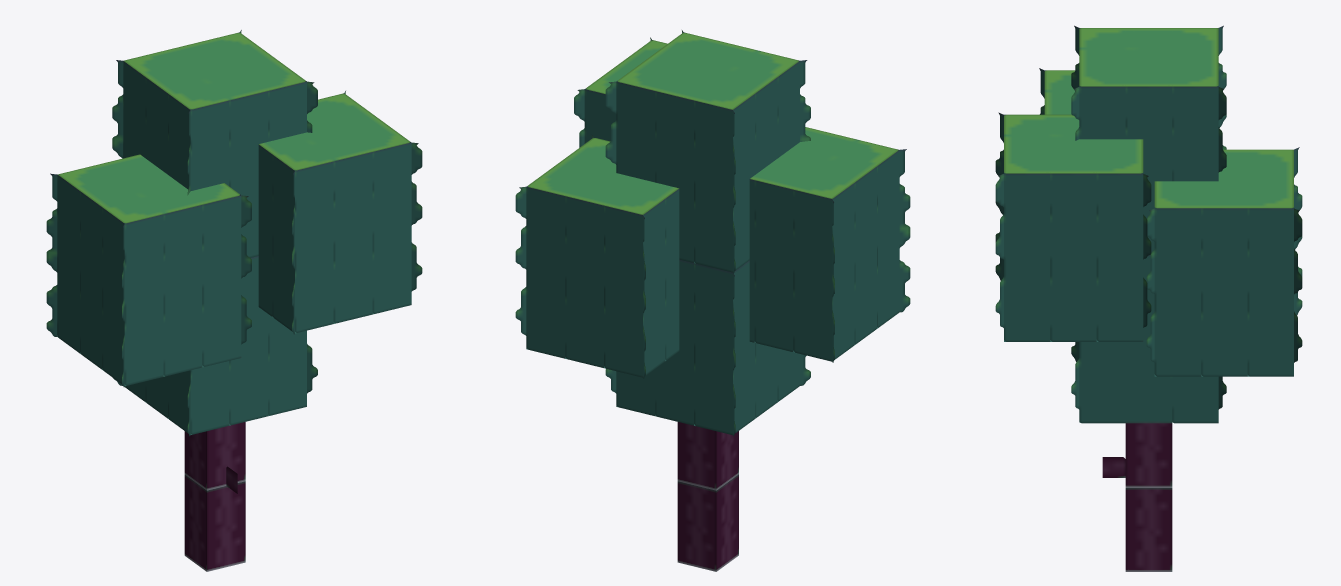
The model's file is tree3.fbx.
3 renders of one model, left to right at view 1: azimuth 30°, elevation 25°; view 2: azimuth 150°, elevation 25°; view 3: azimuth 270°, elevation 25°, orthographic. The views are drawn at different scales.
Visible parts, largest first — view 1: Cube.034; view 2: Cube.034; view 3: Cube.034.
Part boxes in pixels (<box>): Cube.034: <box>46,30,422,571</box>; Cube.034: <box>515,30,910,571</box>; Cube.034: <box>995,25,1302,571</box>.
Size of the model in its own units: 207 by 300 by 192.
